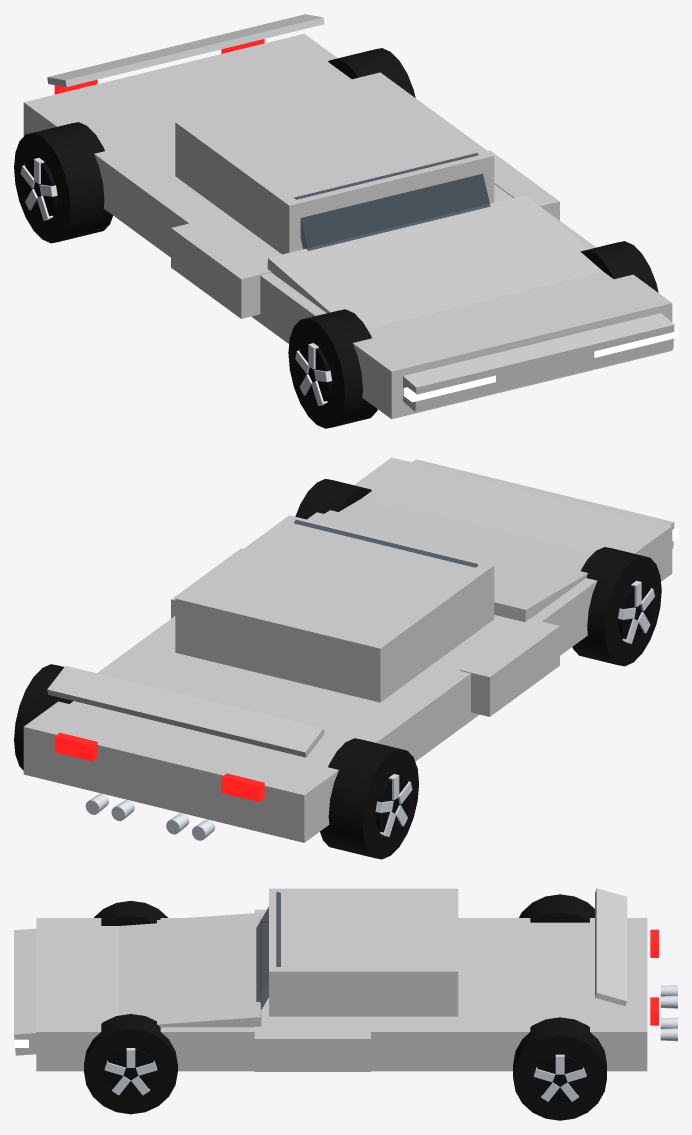
The model's file is shovel-megalodon.glb.
3 views of the same model, one above another, from view 1: azimuth 30°, elevation 25°; view 2: azimuth 150°, elevation 25°; view 3: azimuth 270°, elevation 25° (orthographic). The views are drawn at different scales.
Visible parts, largest first — view 1: chassis, wheel-back-left, wheel-front-left, glass, wheel-front-right, wheel-back-right; view 2: chassis, wheel-back-left, wheel-front-left, wheel-back-right, wheel-front-right, glass; view 3: chassis, wheel-back-right, wheel-front-right, wheel-back-left, glass, wheel-front-left.
Boxes of the visible parts, x1,y1,x2,y2 form: chassis: (23, 14, 677, 419); wheel-back-left: (14, 122, 112, 243); wheel-front-left: (288, 309, 377, 428); glass: (294, 153, 490, 250); wheel-front-right: (580, 241, 658, 292); wheel-back-right: (328, 48, 415, 97); chassis: (23, 457, 677, 842); wheel-back-left: (320, 738, 418, 859); wheel-front-left: (572, 547, 661, 666); wheel-back-right: (14, 664, 72, 770); wheel-front-right: (295, 479, 371, 519); glass: (294, 519, 478, 567); chassis: (14, 888, 677, 1071); wheel-back-right: (513, 1017, 606, 1120); wheel-front-right: (84, 1014, 177, 1114); wheel-back-left: (519, 894, 594, 922); glass: (256, 892, 280, 1009); wheel-front-left: (94, 901, 167, 925).
Size of the model in its own units: 2.37 by 0.9235 by 4.56.
